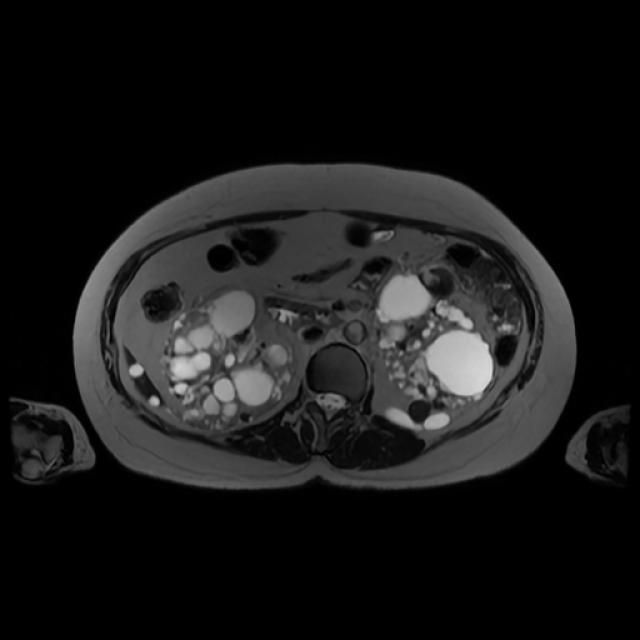sag: (166, 287, 300, 431)
sol: (373, 273, 496, 432)
